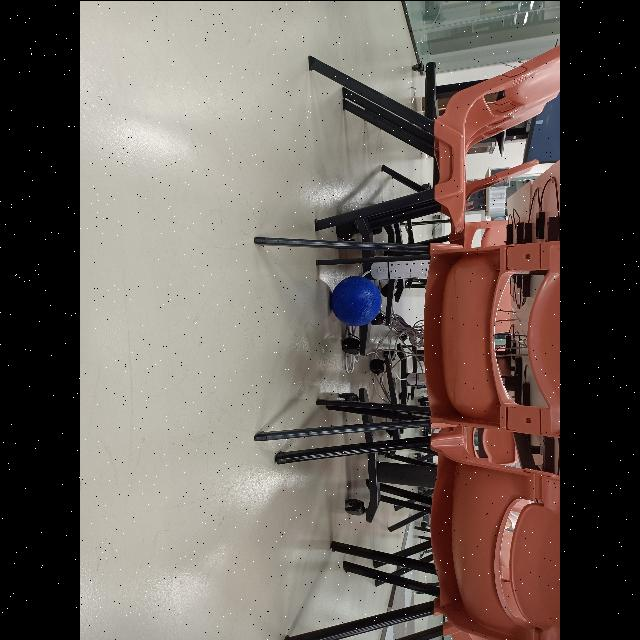B: (331, 275, 382, 325)
